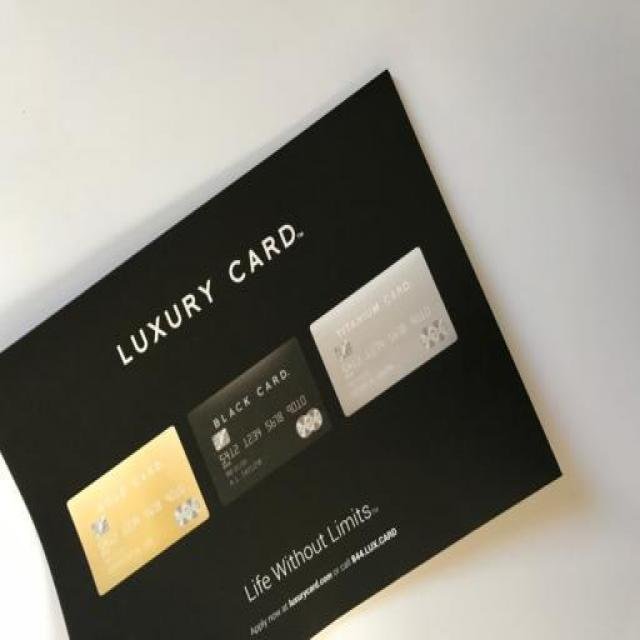paper: (2, 72, 590, 640)
